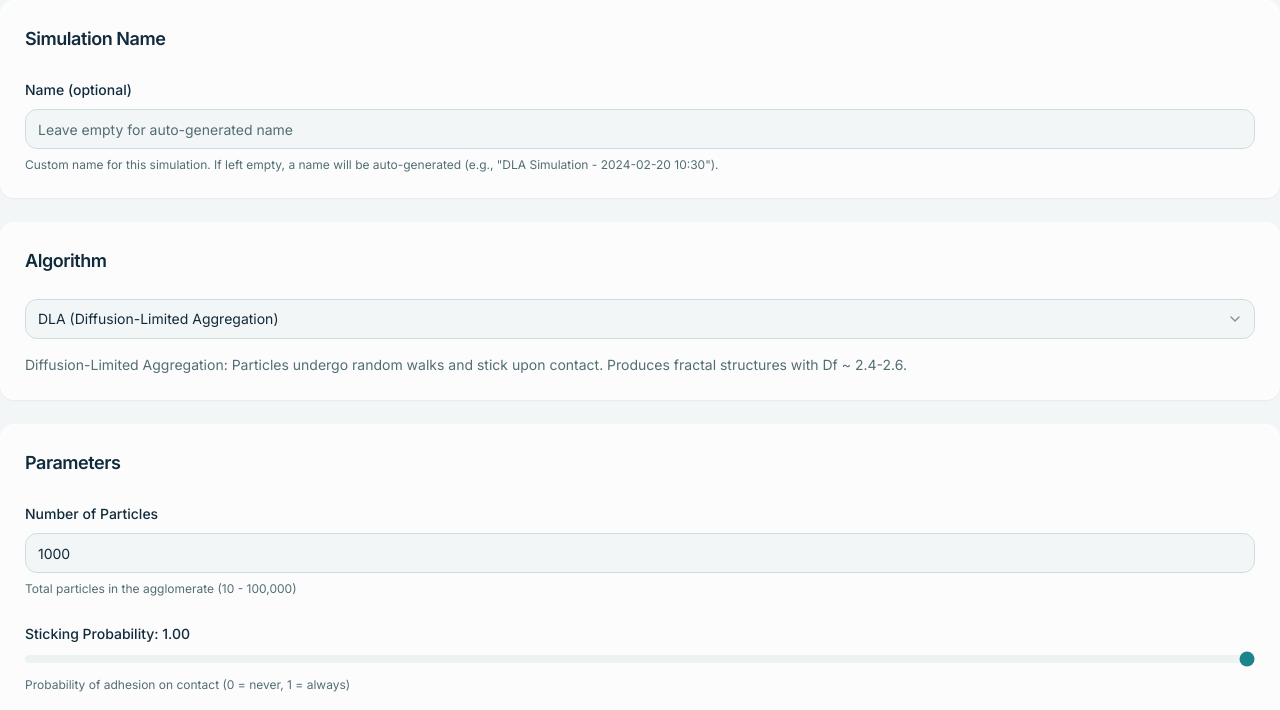
Test: SimulationForm — Sintering UI (PYA-11 T3.3) › sintering toggle shows 'Enabled' after click
The image size is (1280, 710).
Select "Tunable CC (Cluster-Cluster)" in the dropdown: (640, 319) [25, 299, 1255, 339]
(page scrolled)
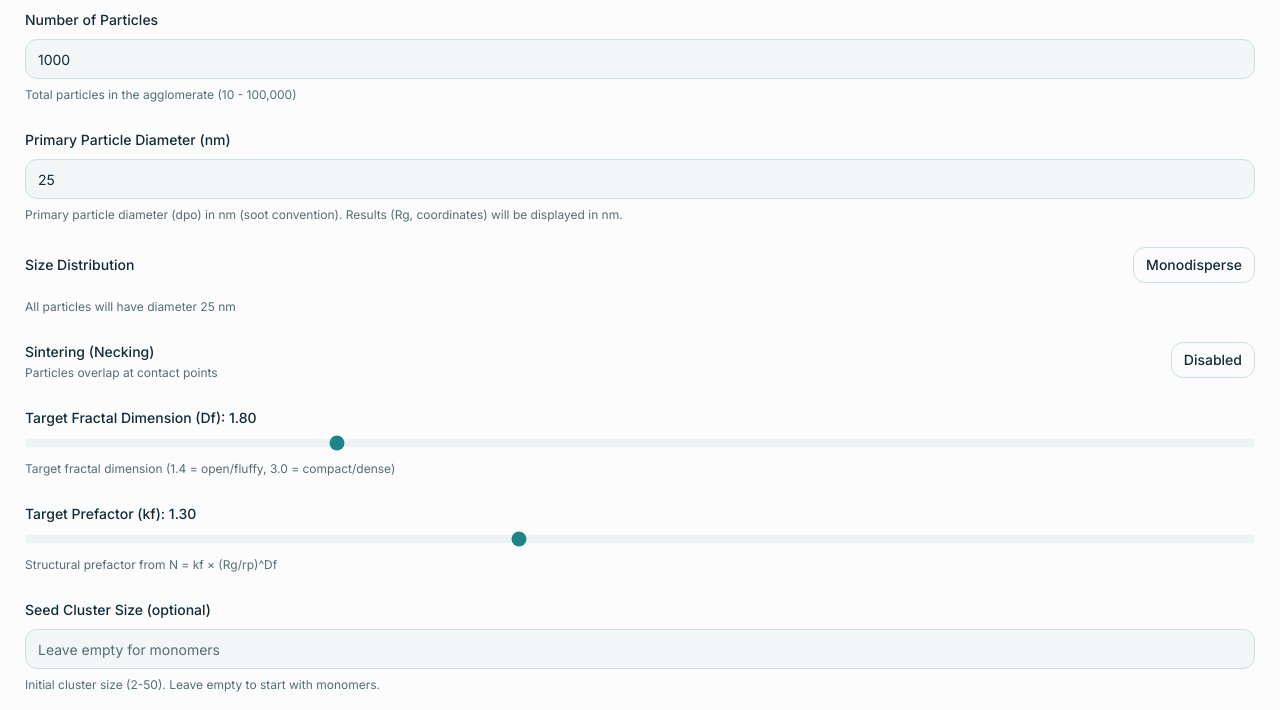
Click the button "Disabled": (1213, 360) [1171, 342, 1255, 378]
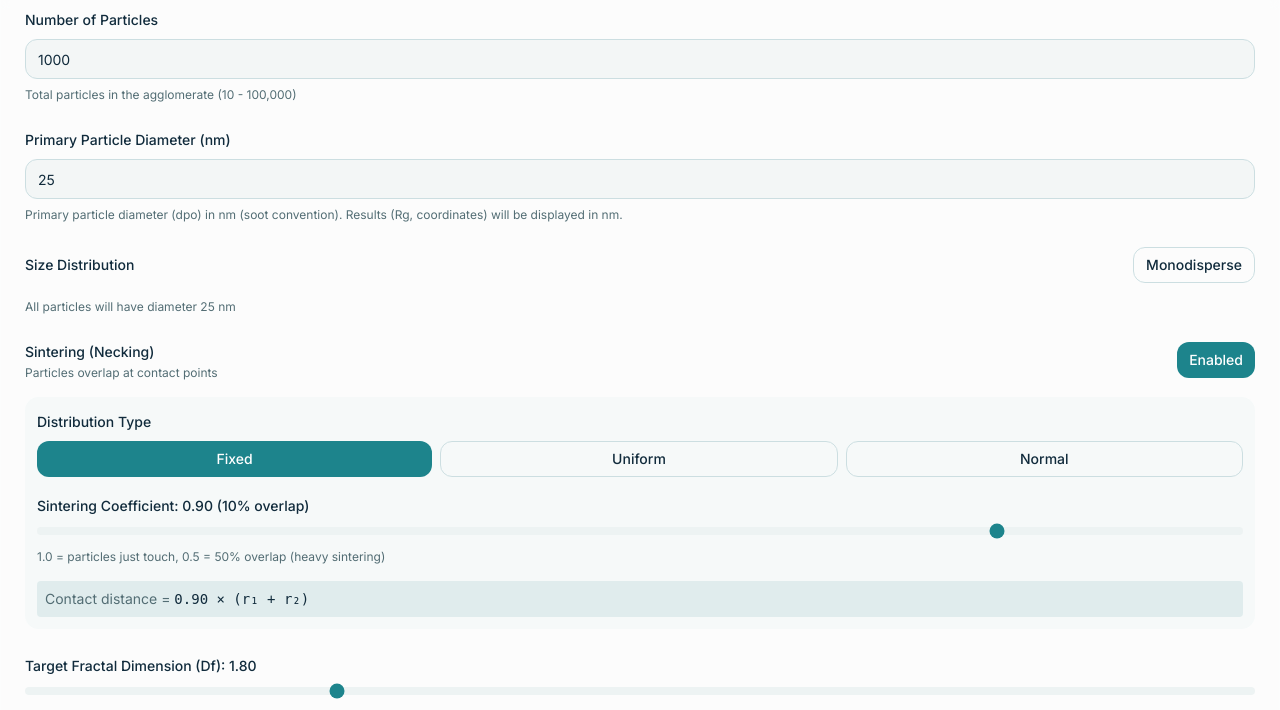
Result: the button "Enabled" is shown at [1177, 342, 1255, 378]
Result: the button "fixed" is shown at [37, 441, 432, 477]
Result: the button "uniform" is shown at [440, 441, 838, 477]
